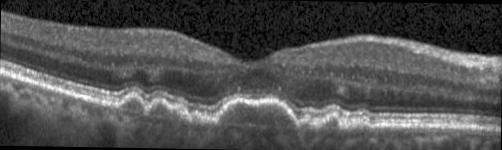retinal_drusen: (218, 100, 296, 130), (148, 102, 186, 121), (119, 96, 144, 113), (324, 116, 339, 128), (299, 121, 313, 129)
